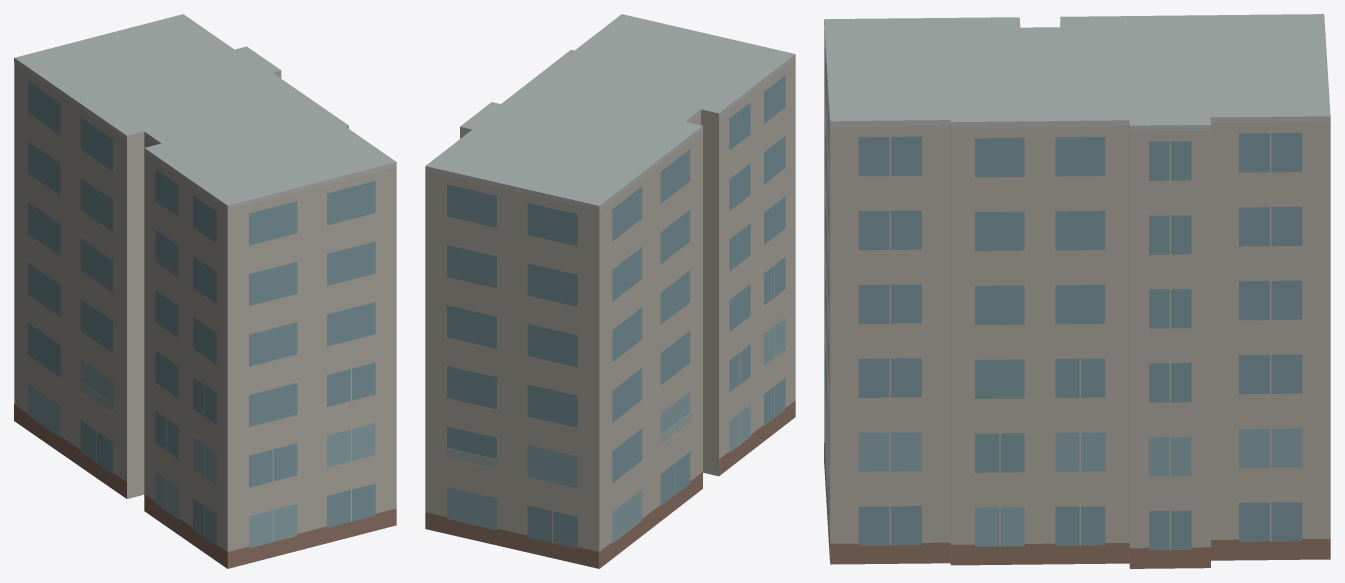
The model's file is survey-upis-32725139.glb.
The picture shows the model from 3 angles, left to right: view 1: azimuth 30°, elevation 25°; view 2: azimuth 150°, elevation 25°; view 3: azimuth 270°, elevation 25°; orthographic projection. The views are drawn at different scales.
Visible parts, largest first — view 1: survey-upis-32725139.tmp; view 2: survey-upis-32725139.tmp; view 3: survey-upis-32725139.tmp.
Part boxes in pixels (x1,y1,x2,y2): survey-upis-32725139.tmp: [14, 14, 396, 568]; survey-upis-32725139.tmp: [425, 14, 795, 568]; survey-upis-32725139.tmp: [824, 14, 1330, 568].
Bounding box in the file's own units: 10.2 × 18.85 × 19.53.
